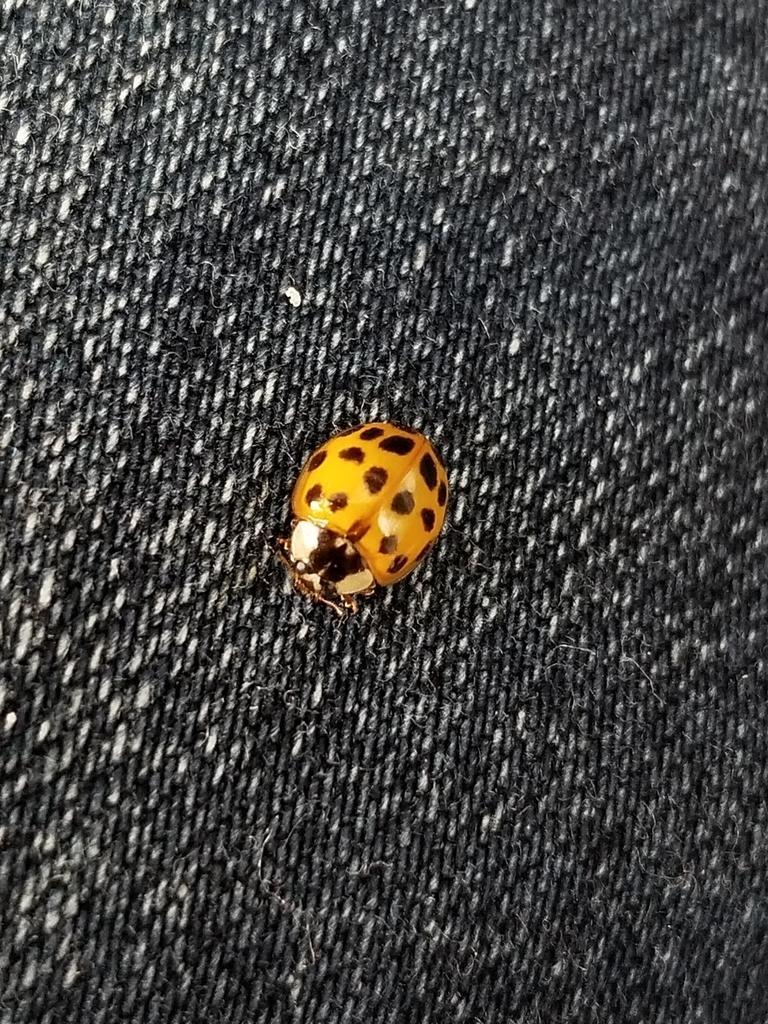ladybug: (269, 421, 456, 621)
